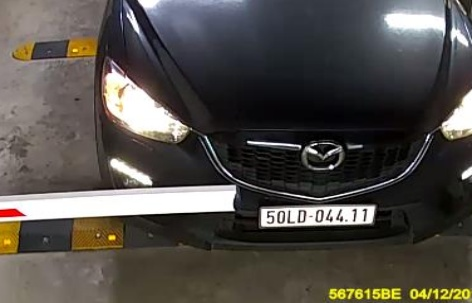plate: (253, 198, 380, 231)
